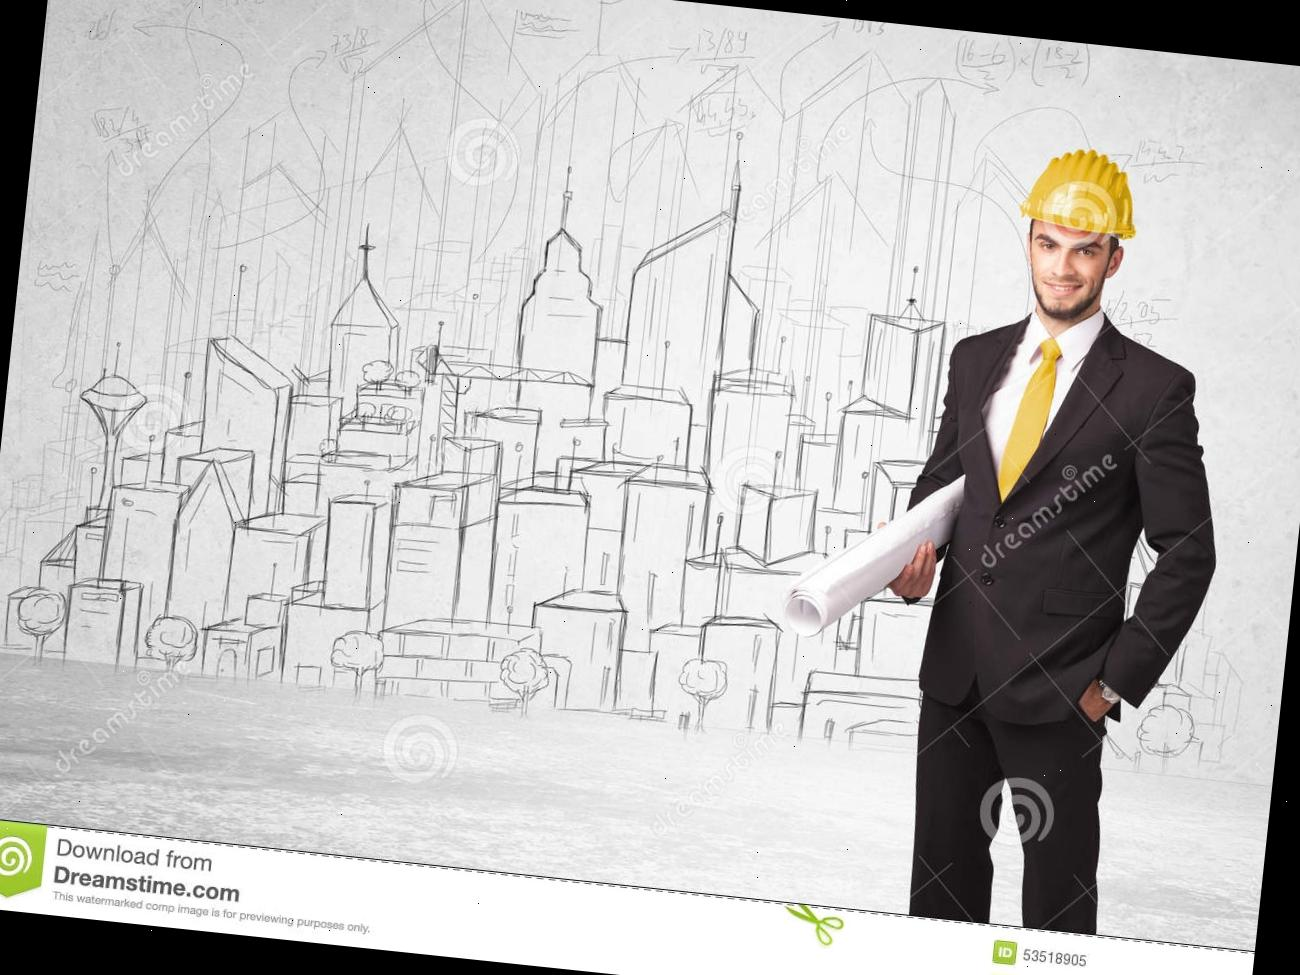helmet: (1012, 137, 1155, 248)
no_wear: (915, 327, 1171, 707)
